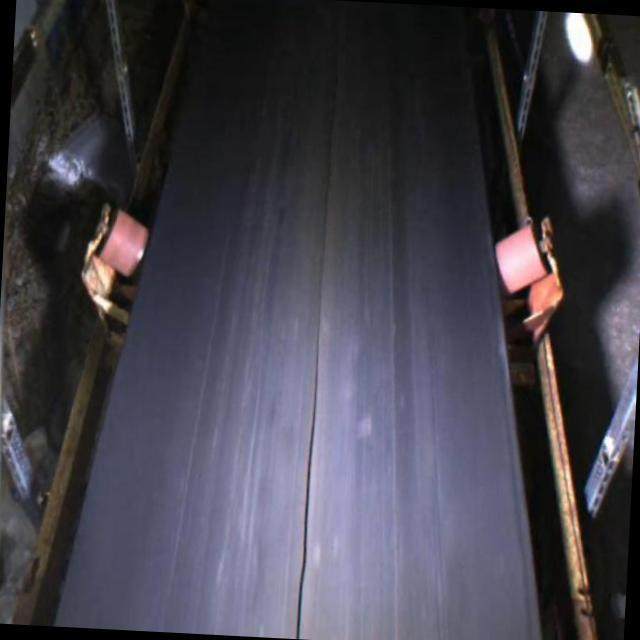Tear: (286, 0, 348, 640)
